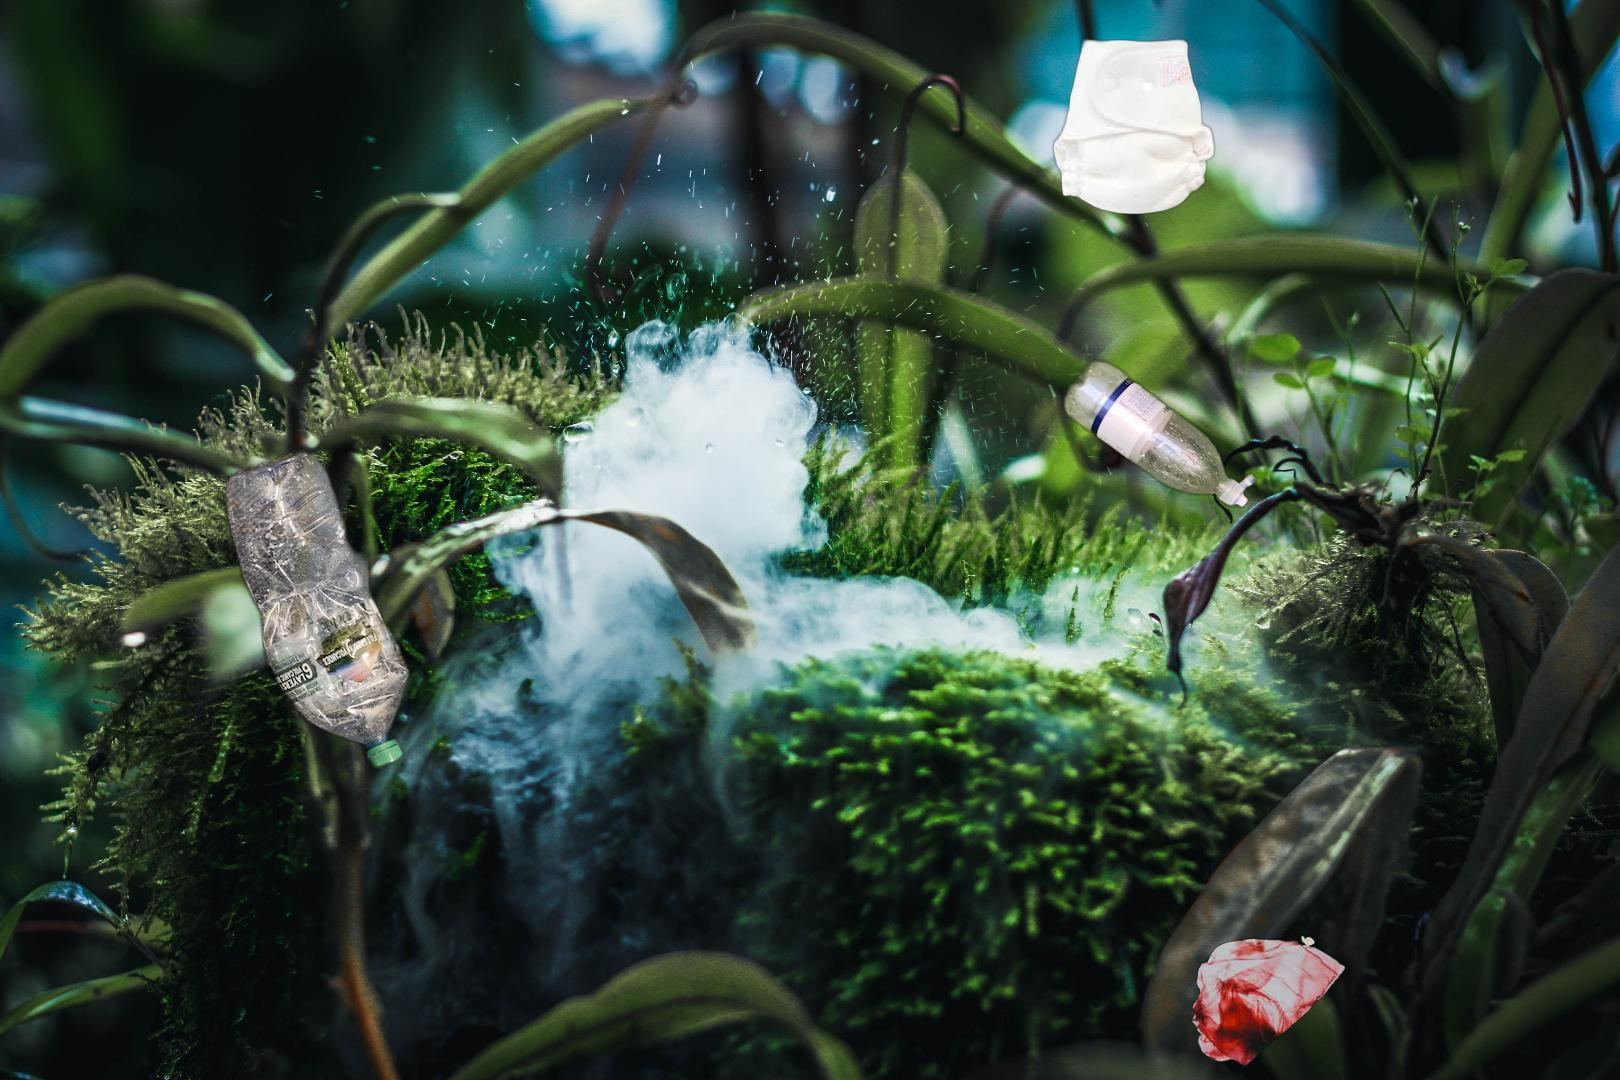plastic-bag: (1188, 931, 1348, 1069)
plastic-bottles: (218, 430, 454, 775), (1060, 356, 1261, 513)
trash: (1050, 35, 1217, 217)
